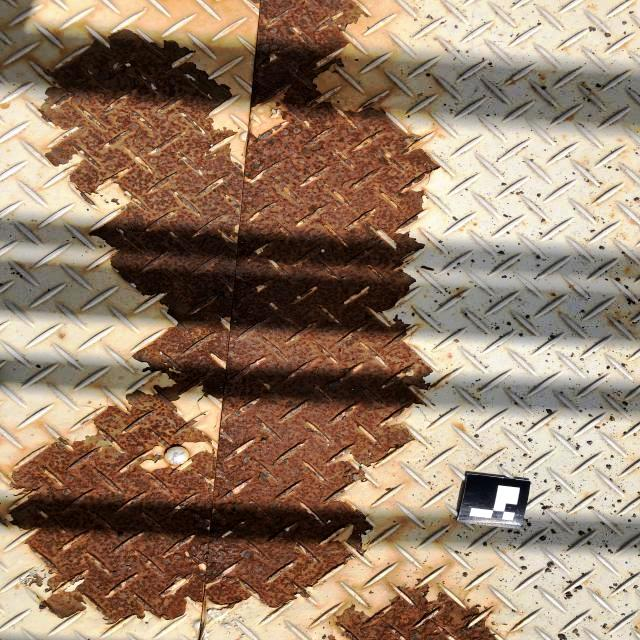Corrosion: (3, 0, 440, 623), (335, 585, 498, 640)
